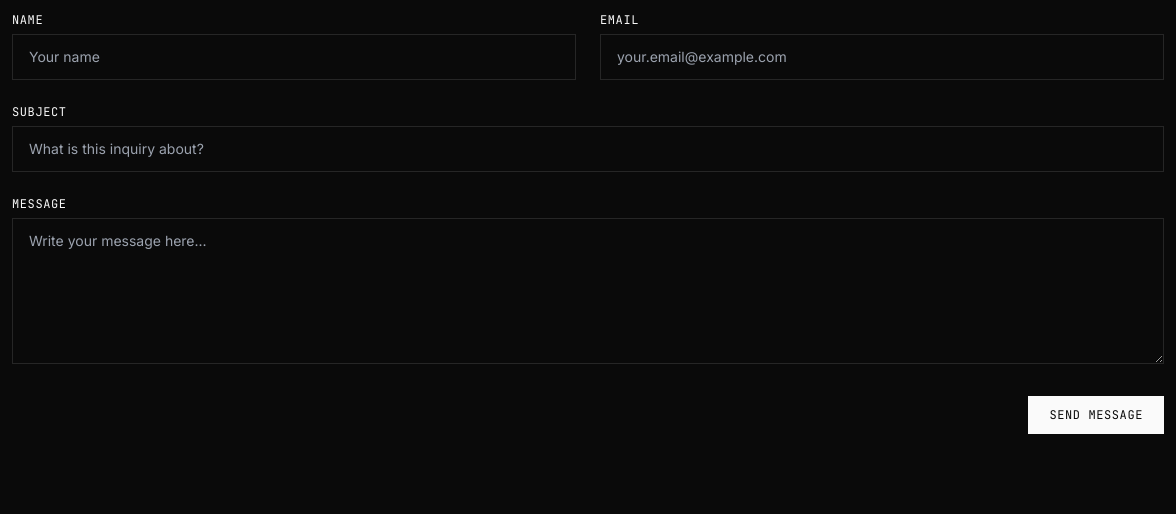
Test case: ContactForm component › should show inline validation errors for empty submissions
The image size is (1176, 514).
Click the button "Send Message". click: (1096, 415)
box: [1028,396,1164,434]
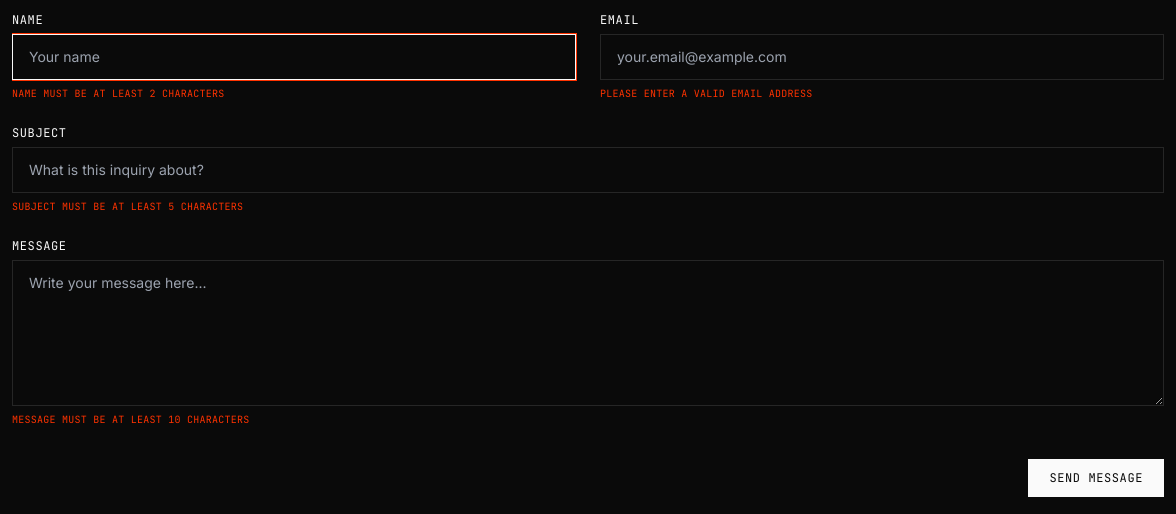
Result: the text "Name must be at least 2 characters" is shown at [12,87,224,100]
Result: the text "Please enter a valid email address" is shown at [600,87,812,100]
Result: the text "Subject must be at least 5 characters" is shown at [12,200,243,213]
